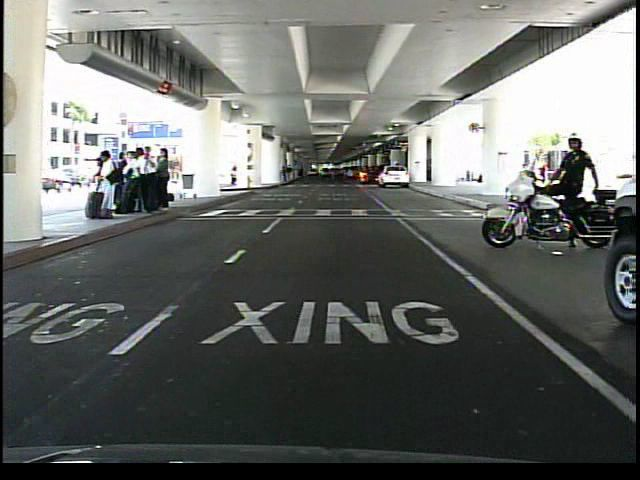person: (548, 129, 597, 256)
